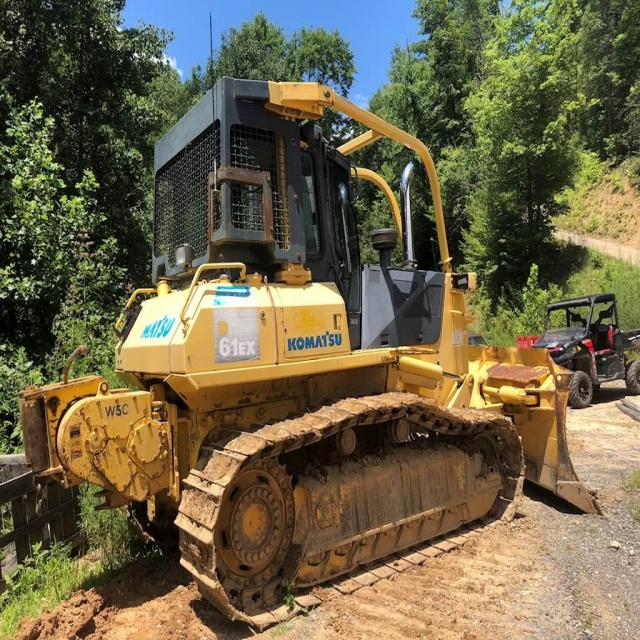Bulldozer: (44, 70, 610, 618)
